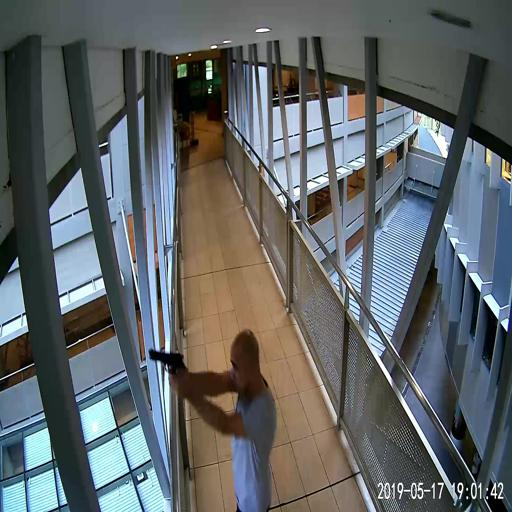pistol: (148, 349, 184, 391)
